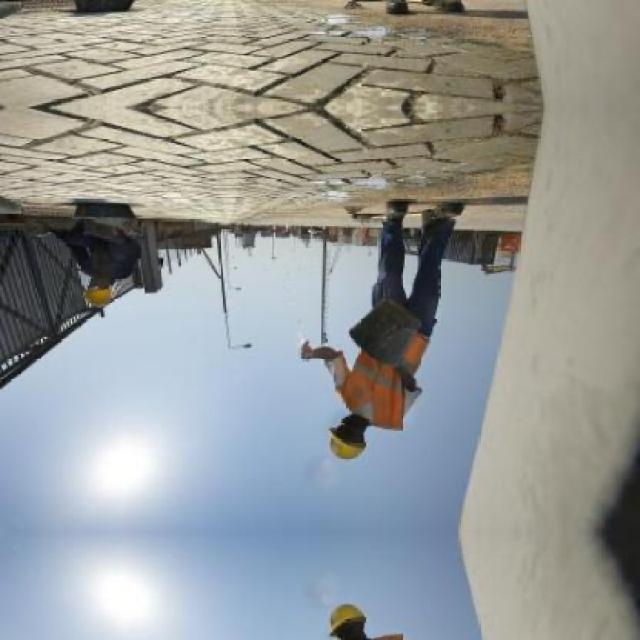con casco: (324, 372, 411, 468)
